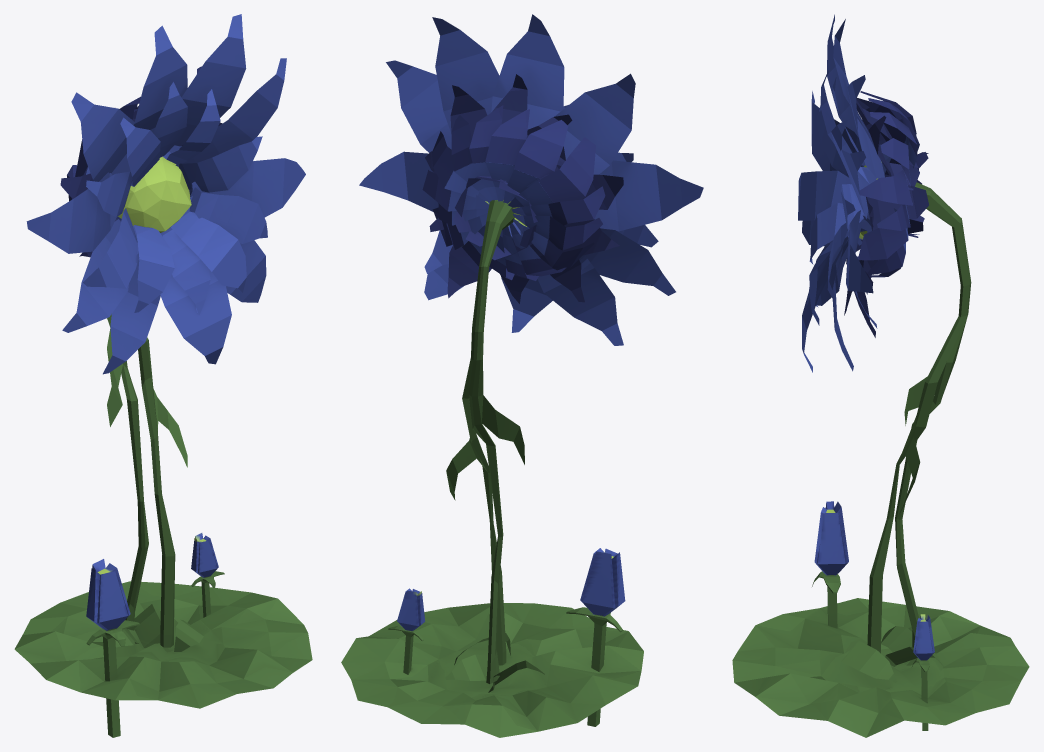
File: Plant02_Uvd.fbx
The picture shows the model from 3 angles, left to right: view 1: azimuth 30°, elevation 25°; view 2: azimuth 150°, elevation 25°; view 3: azimuth 270°, elevation 25°; orthographic projection.
Visible parts, largest first — view 1: Flower02Plant; view 2: Flower02Plant; view 3: Flower02Plant.
Boxes of the visible parts, x1=… form: Flower02Plant: x1=14, y1=14, x2=312, y2=737; Flower02Plant: x1=341, y1=14, x2=703, y2=737; Flower02Plant: x1=732, y1=14, x2=1029, y2=737.
Size of the model in its own units: 52.81 by 113 by 43.73.
Materials: 1 (1 with a texture image).
